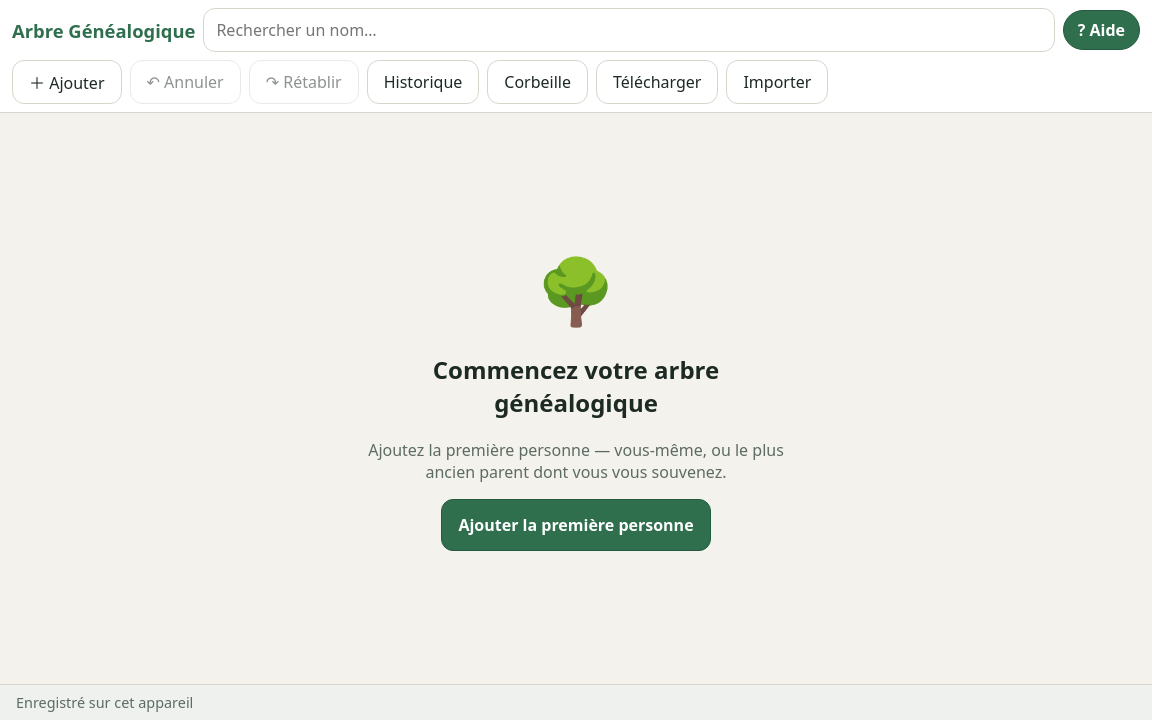
App smoke flow › loads, shows the empty state, and adds the first person
Click the button "Ajouter la première personne" at coordinates (576, 525), box [441,499,711,551]
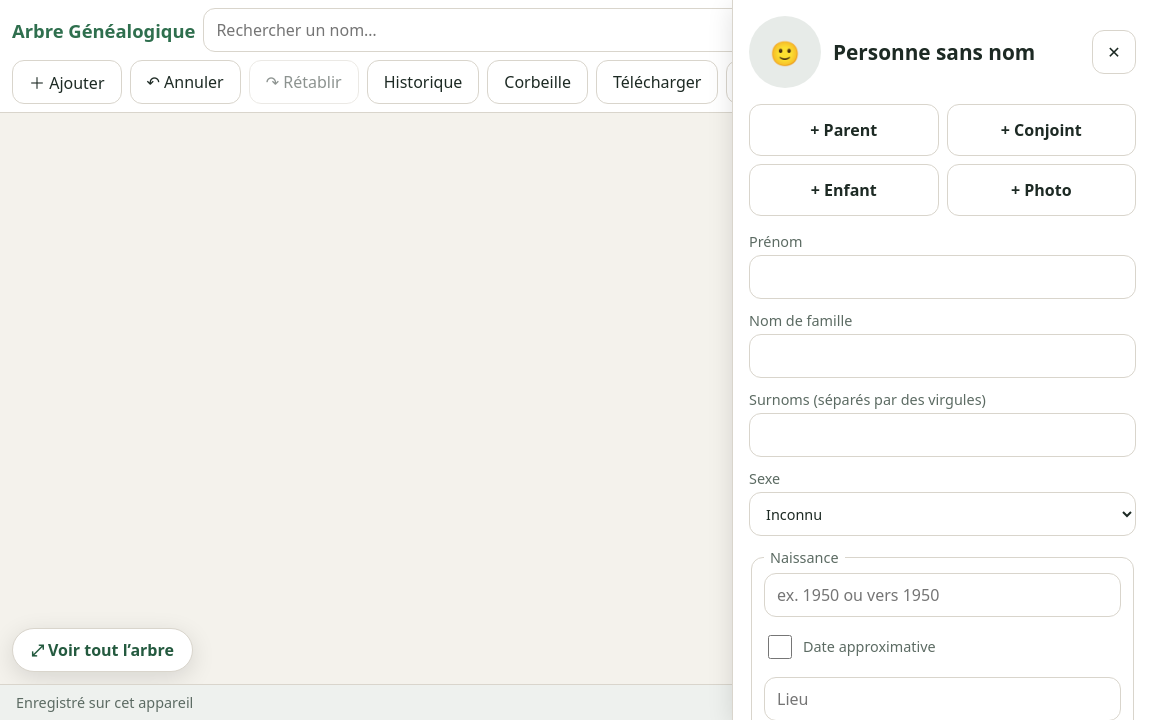
Check: the dialog is shown, box [732,0,1151,719]
Check: the heading "Personne sans nom" is shown, box [833,38,1035,66]
